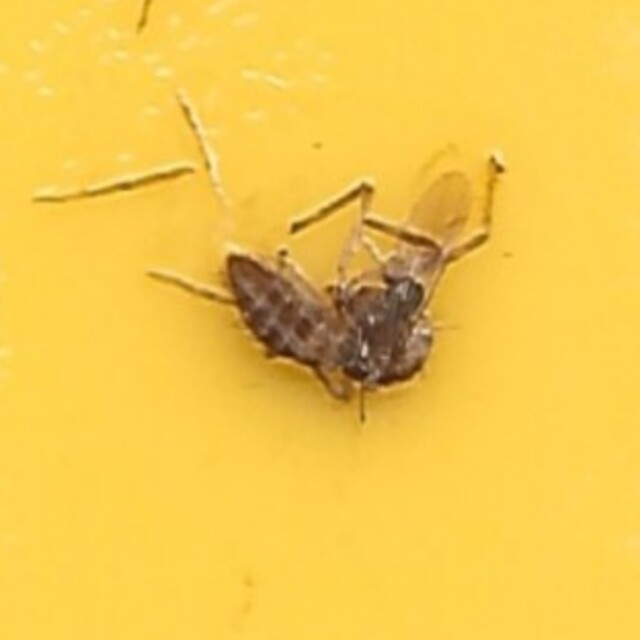Nematocera: (205, 244, 435, 396)
